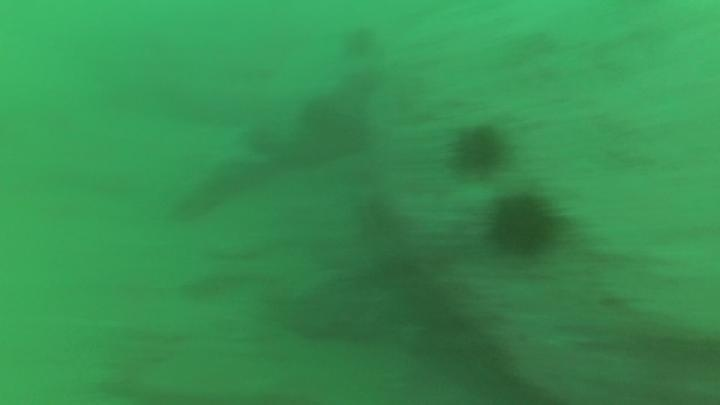echinus: (483, 188, 564, 261), (448, 121, 512, 179), (339, 22, 380, 61)
